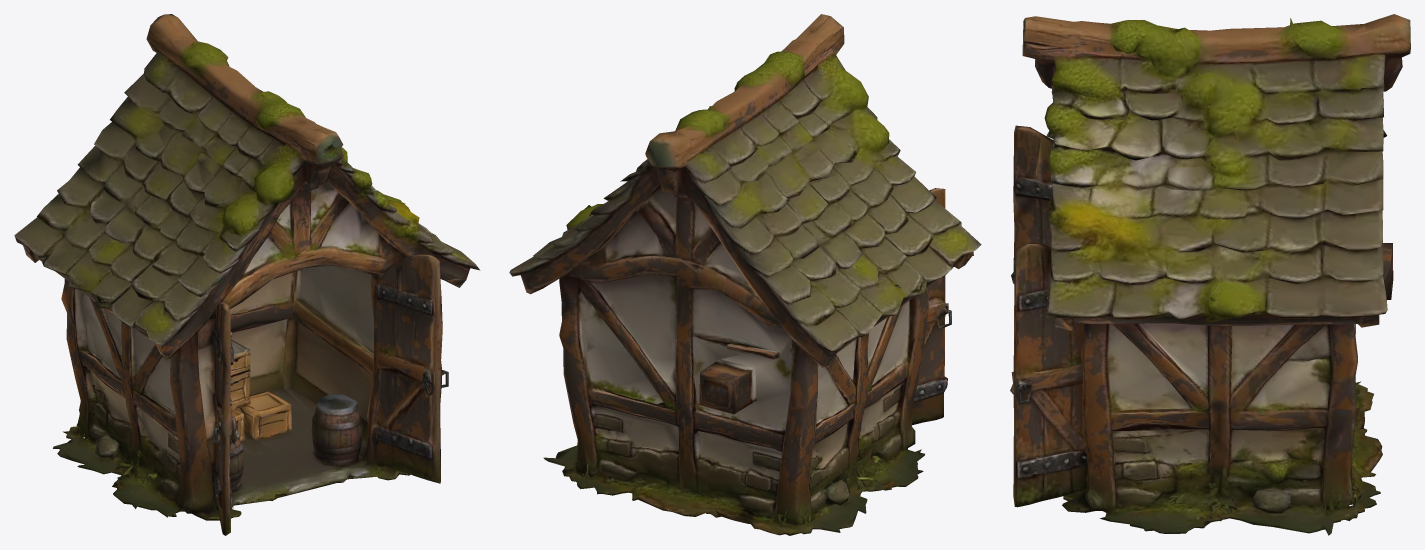
File: town_civic_storage_shed.glb
The picture shows the model from 3 angles, left to right: view 1: azimuth 30°, elevation 25°; view 2: azimuth 150°, elevation 25°; view 3: azimuth 270°, elevation 25°; orthographic projection. The views are drawn at different scales.
Parts seen in each view (by area): view 1: tripo_node_771f0703-bb40-4aaa-b598-8a7056da8df0; view 2: tripo_node_771f0703-bb40-4aaa-b598-8a7056da8df0; view 3: tripo_node_771f0703-bb40-4aaa-b598-8a7056da8df0.
Part boxes in pixels (bbox=[...]): tripo_node_771f0703-bb40-4aaa-b598-8a7056da8df0: bbox=[14, 14, 480, 535]; tripo_node_771f0703-bb40-4aaa-b598-8a7056da8df0: bbox=[509, 14, 981, 535]; tripo_node_771f0703-bb40-4aaa-b598-8a7056da8df0: bbox=[1010, 14, 1410, 535].
Bounding box in the file's own units: 4.08 × 4.5 × 3.76.
Materials: 1 (1 with a texture image).
